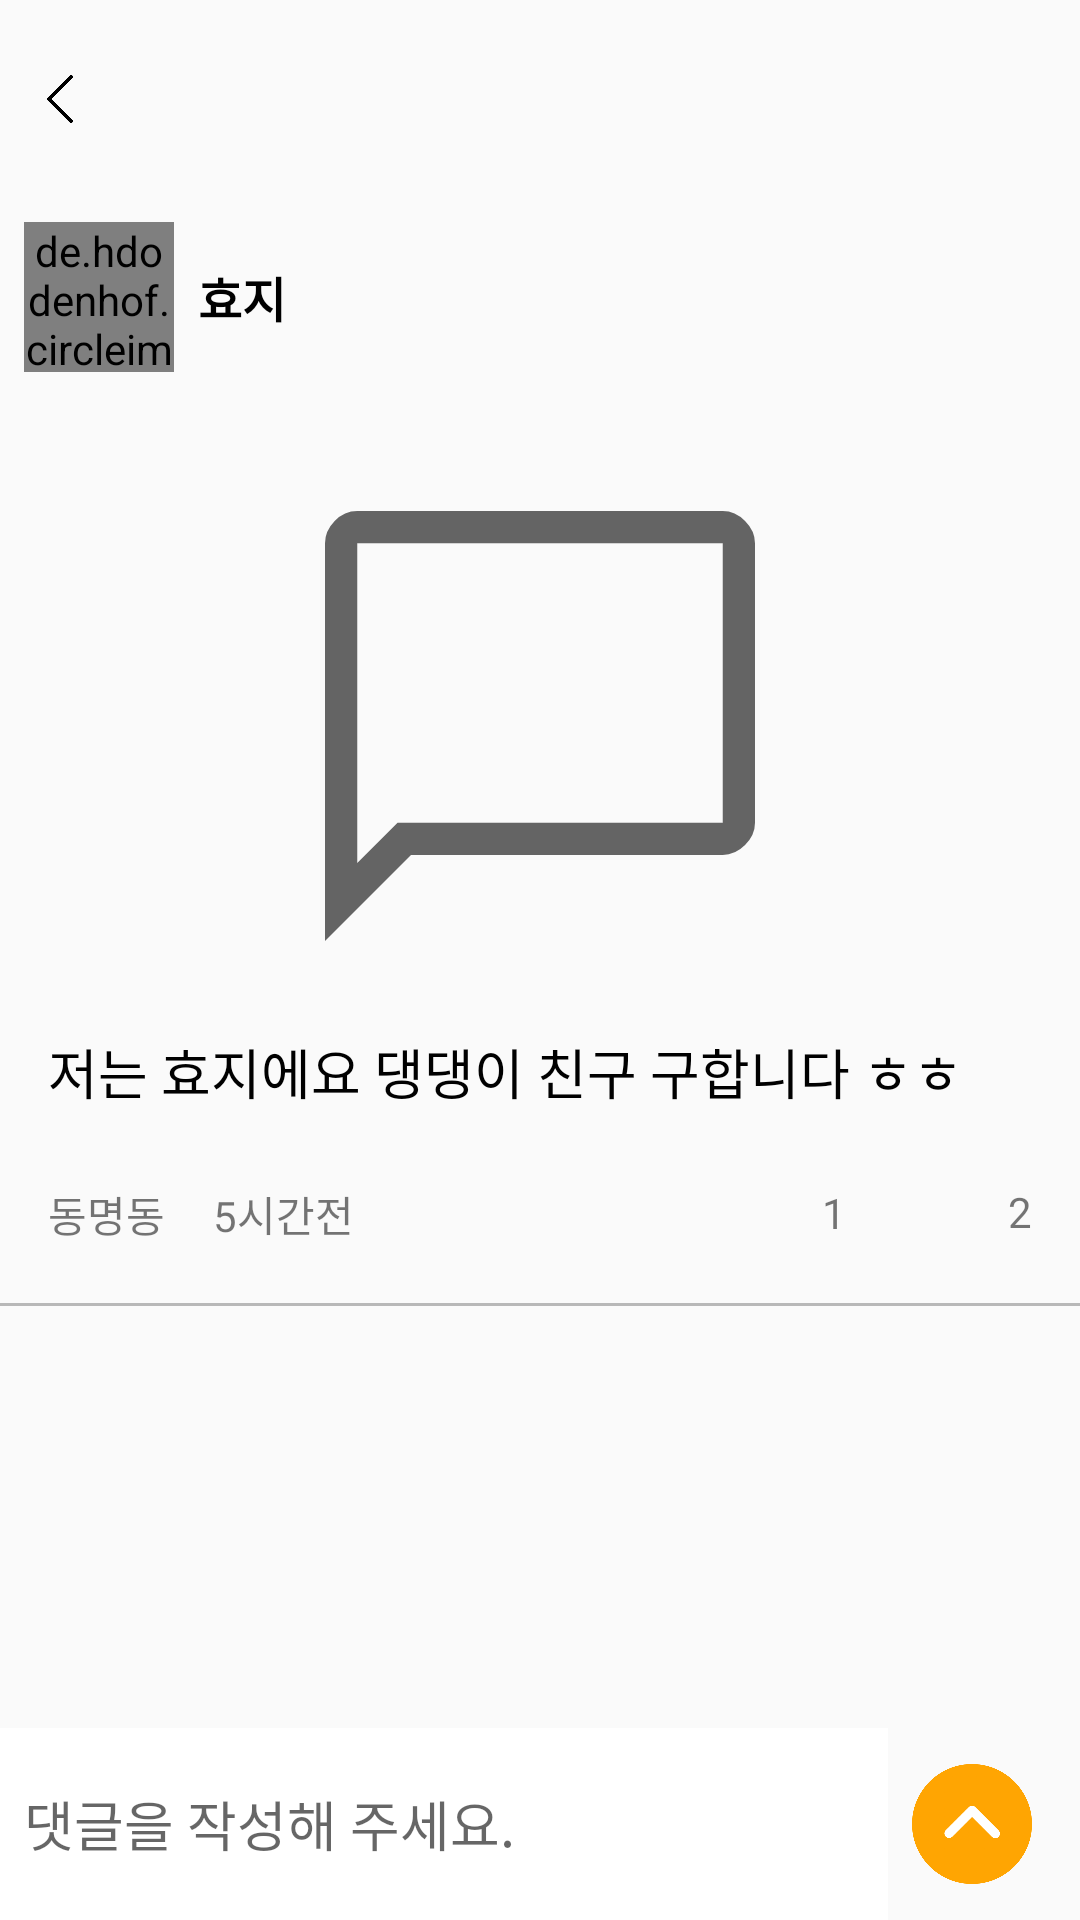

Icon bounding boxes for this 1080*1920 phone screenshot, format Rect(x1, y1, x2, y2):
back: Rect(47, 75, 73, 123)
